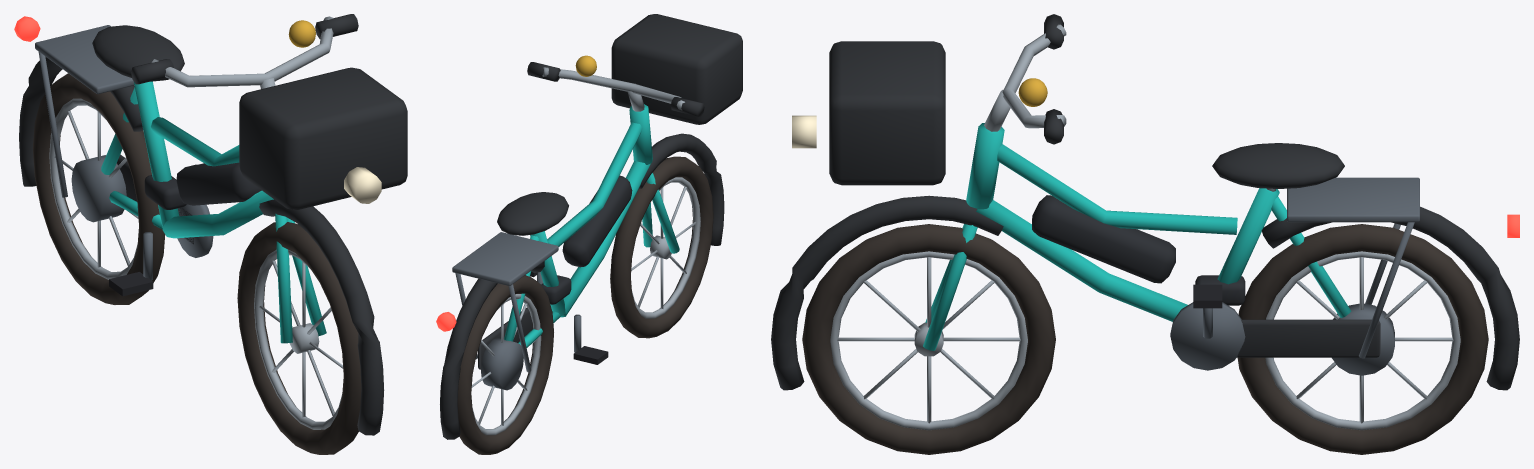
The model's file is ebike.gltf.
The picture shows the model from 3 angles, left to right: view 1: azimuth 30°, elevation 25°; view 2: azimuth 150°, elevation 25°; view 3: azimuth 270°, elevation 25°; orthographic projection. The views are drawn at different scales.
Parts seen in each view (by area): view 1: STEER_mesh, ebike_frame, WHEEL_front_mesh, WHEEL_rear_mesh, ebike_motor, CRANK_mesh; view 2: STEER_mesh, ebike_frame, WHEEL_front_mesh, WHEEL_rear_mesh, ebike_motor, CRANK_mesh; view 3: ebike_frame, STEER_mesh, WHEEL_front_mesh, WHEEL_rear_mesh, ebike_motor, CRANK_mesh.
Boxes of the visible parts, box(x1,y1,x2,y2) form: STEER_mesh: box(131, 14, 407, 435); ebike_frame: box(14, 16, 273, 244); WHEEL_front_mesh: box(237, 222, 361, 454); WHEEL_rear_mesh: box(32, 73, 165, 304); ebike_motor: box(71, 155, 261, 222); CRANK_mesh: box(109, 163, 213, 296); STEER_mesh: box(527, 14, 742, 253); ebike_frame: box(436, 104, 652, 439); WHEEL_front_mesh: box(610, 156, 713, 338); WHEEL_rear_mesh: box(457, 275, 553, 454); ebike_motor: box(481, 175, 632, 390); CRANK_mesh: box(530, 271, 608, 364); ebike_frame: box(966, 123, 1519, 390); STEER_mesh: box(771, 14, 1066, 390); WHEEL_front_mesh: box(802, 224, 1055, 454); WHEEL_rear_mesh: box(1237, 224, 1488, 454); ebike_motor: box(1032, 195, 1394, 375); CRANK_mesh: box(1170, 284, 1245, 370).
Size of what is drawn, in the model's own units: 0.64 by 1.06 by 1.8.
